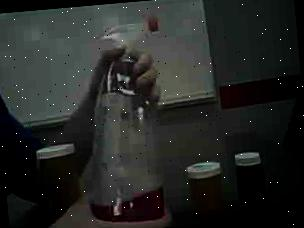Bottle A: (33, 138, 84, 214)
Bottle B: (186, 152, 229, 222)
Bottle C: (234, 144, 270, 221)
hazard: (88, 15, 177, 220)
